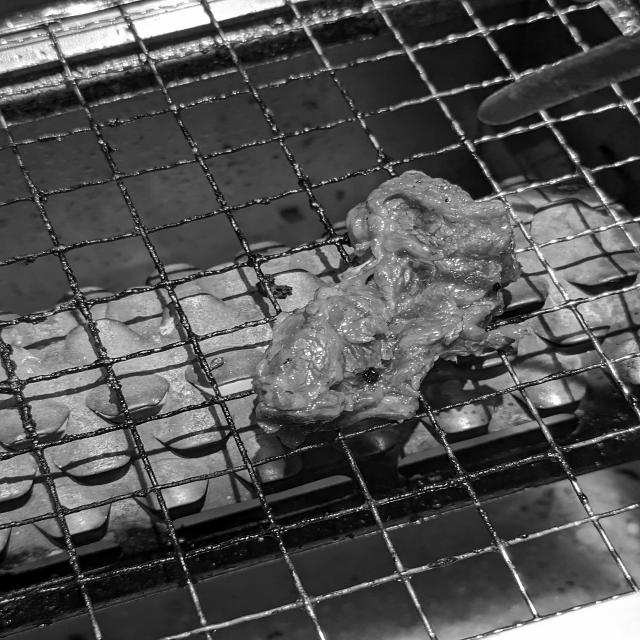OK undercooked beef,: (235, 158, 549, 455)
